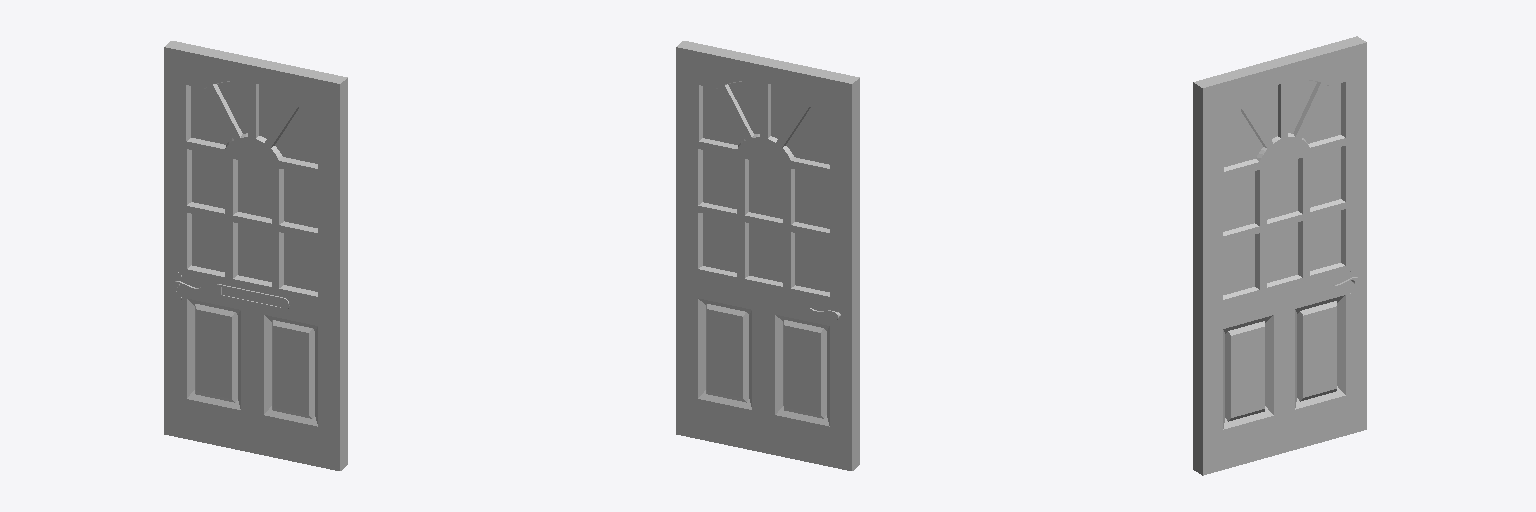
File: door_000009.obj
The picture shows the model from 3 angles: view 1: azimuth 30°, elevation 25°; view 2: azimuth 210°, elevation 25°; view 3: azimuth 270°, elevation 25°; orthographic projection.
Visible parts, largest first — view 1: Door.003; view 2: Door.003; view 3: Door.003.
Boxes of the visible parts, x1,y1,x2,y2 form: Door.003: [164, 41, 347, 470]; Door.003: [676, 41, 859, 470]; Door.003: [1193, 36, 1366, 475].
Size of the model in its own units: 0.4625 by 1.6 by 0.6524.